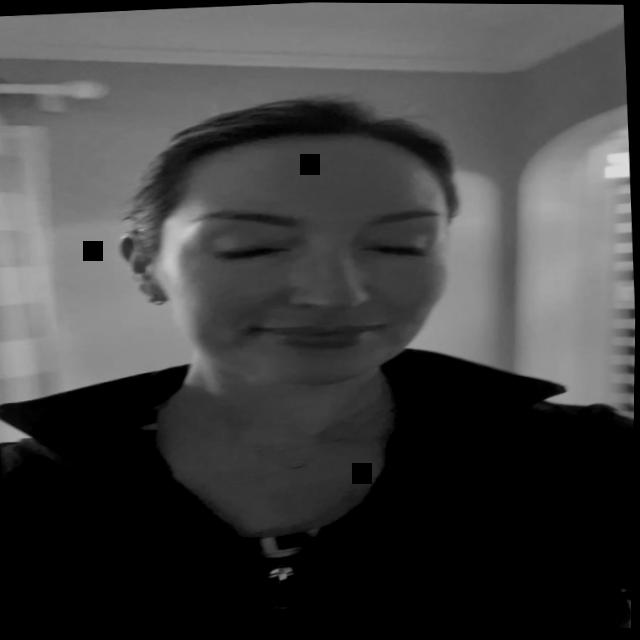NO-Mask: (113, 102, 483, 426)
